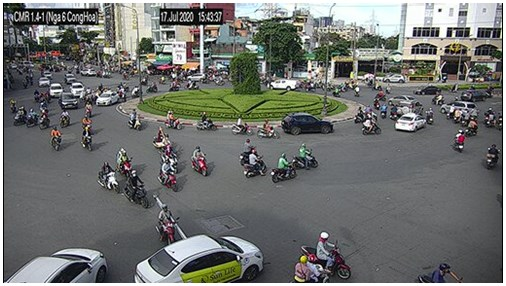xe_hoi: (135, 234, 265, 283), (4, 247, 109, 282), (281, 112, 333, 135), (395, 113, 427, 135), (440, 100, 477, 117), (268, 79, 300, 91), (94, 92, 119, 105), (459, 90, 486, 102), (59, 91, 77, 108), (388, 95, 418, 105), (413, 85, 442, 95), (383, 73, 405, 83), (48, 82, 62, 97), (186, 73, 208, 82), (71, 83, 85, 97), (64, 72, 75, 85), (80, 68, 94, 77), (38, 77, 49, 86), (43, 71, 52, 78)
xe_may: (300, 231, 350, 280), (124, 169, 149, 211), (291, 256, 330, 282), (97, 160, 120, 194), (269, 153, 295, 183), (157, 204, 175, 247), (243, 149, 267, 180), (157, 157, 177, 193), (294, 142, 317, 170), (256, 118, 282, 139), (191, 146, 208, 177), (195, 111, 218, 133), (117, 146, 132, 179), (154, 128, 172, 155), (231, 114, 253, 136), (242, 138, 259, 166), (360, 115, 382, 136), (161, 146, 178, 172), (164, 110, 183, 132), (484, 143, 500, 169), (128, 108, 143, 132), (50, 123, 62, 152), (81, 126, 93, 151), (25, 108, 39, 128), (453, 129, 465, 152), (39, 109, 51, 131), (13, 106, 26, 126), (82, 114, 94, 135), (60, 109, 72, 127), (484, 106, 494, 127), (352, 106, 364, 122), (466, 118, 476, 136), (84, 101, 95, 117), (497, 113, 505, 130), (168, 82, 181, 92), (129, 86, 141, 96), (390, 104, 397, 121), (9, 96, 16, 112), (380, 103, 387, 119), (214, 76, 225, 86), (146, 81, 157, 91), (372, 81, 382, 91), (365, 104, 372, 118), (33, 87, 40, 100), (373, 96, 380, 109), (338, 83, 347, 92), (332, 85, 340, 95), (353, 84, 360, 95), (121, 70, 128, 81), (116, 82, 125, 90), (384, 82, 391, 92), (94, 82, 104, 89)
